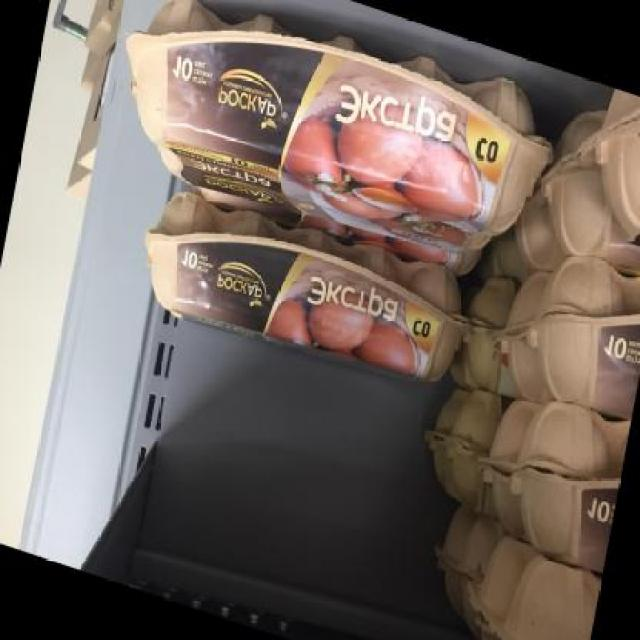Egg: (103, 0, 559, 298), (126, 168, 480, 410), (504, 383, 631, 582), (536, 243, 640, 425), (572, 84, 640, 259), (491, 552, 602, 639)
